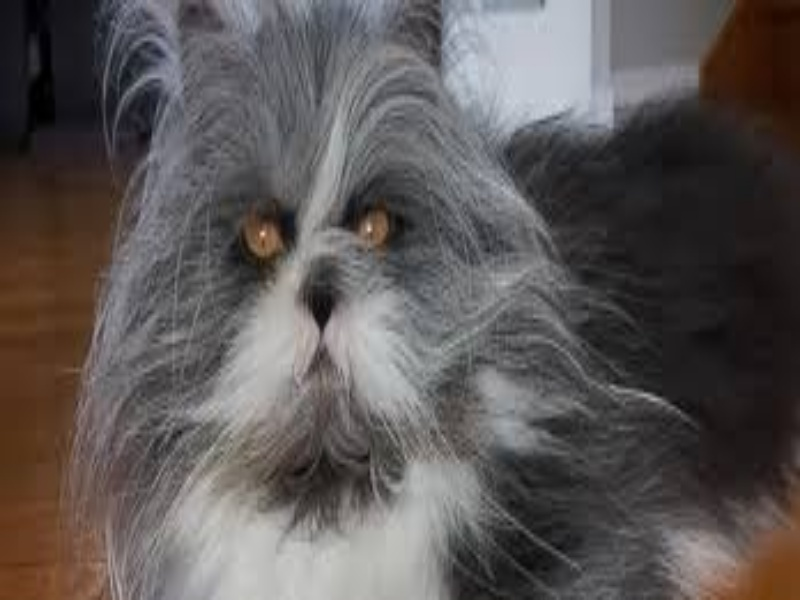dog: (71, 3, 649, 600)
